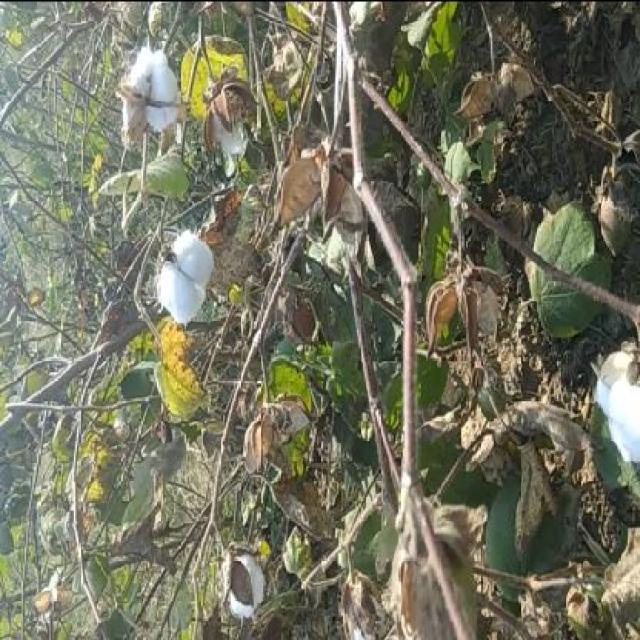cotton_ready: (111, 34, 198, 175), (156, 202, 227, 338), (216, 527, 284, 621), (593, 339, 636, 479)
